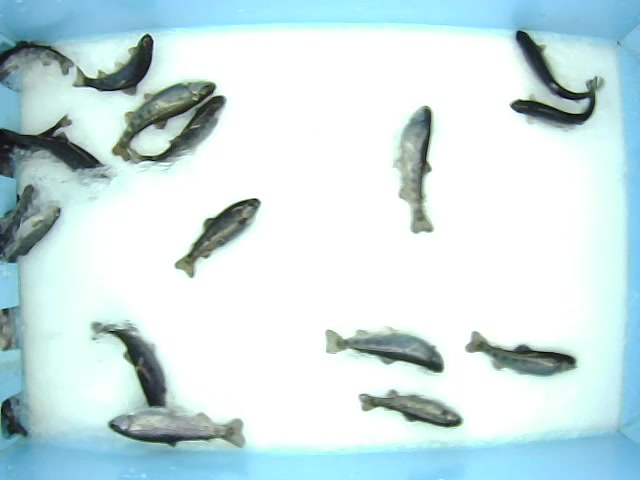fish: (110, 79, 217, 163), (90, 319, 173, 419), (125, 94, 230, 166), (174, 195, 262, 279), (513, 29, 605, 100), (107, 406, 247, 450), (323, 324, 445, 374), (70, 32, 155, 97), (393, 105, 435, 235), (465, 331, 580, 378), (359, 388, 464, 429), (511, 87, 598, 127)
